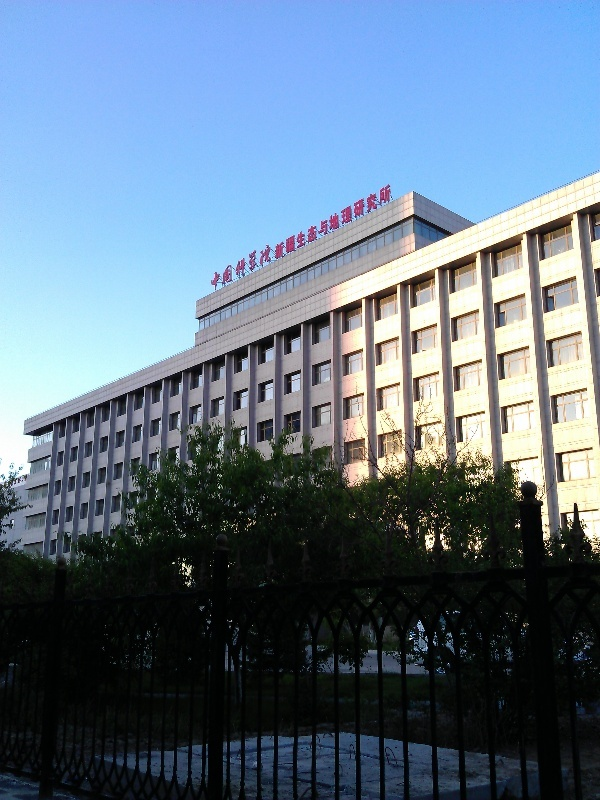text: (209, 181, 224, 291), (225, 181, 240, 291), (241, 181, 256, 291), (257, 181, 272, 291), (273, 181, 288, 291), (289, 181, 304, 291), (305, 181, 320, 291), (321, 181, 336, 291), (337, 181, 352, 291), (353, 181, 368, 291), (369, 181, 384, 291), (385, 181, 393, 291), (207, 181, 208, 291)
